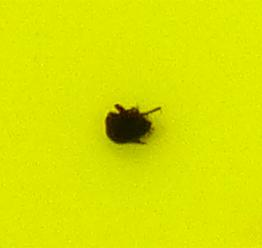Hymenoptera: (100, 100, 162, 148)
